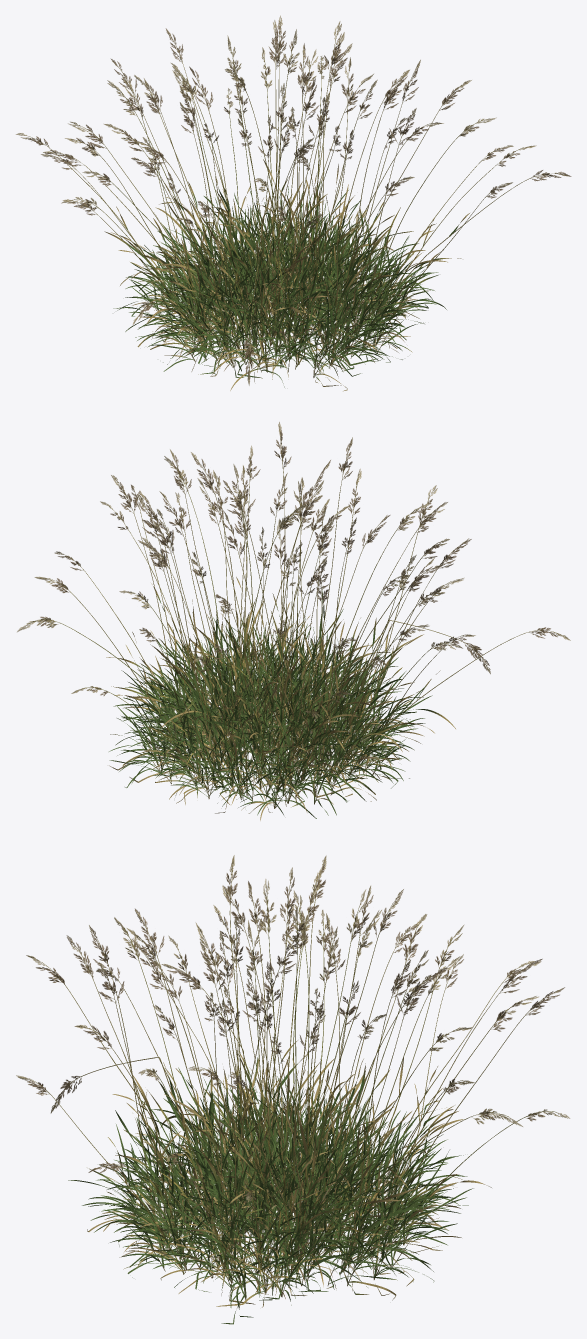
3 renders of one model, top to bottom at view 1: azimuth 30°, elevation 25°; view 2: azimuth 150°, elevation 25°; view 3: azimuth 270°, elevation 25°, orthographic. The views are drawn at different scales.
Visible parts, largest first — view 1: Festuca_rubra_LD; view 2: Festuca_rubra_LD; view 3: Festuca_rubra_LD.
Boxes of the visible parts, x1,y1,x2,y2 form: Festuca_rubra_LD: [16, 15, 571, 391]; Festuca_rubra_LD: [17, 422, 570, 820]; Festuca_rubra_LD: [16, 855, 570, 1324].
Size of the model in its own units: 1.6 by 1 by 1.44.
Materials: 13 (13 with a texture image).
